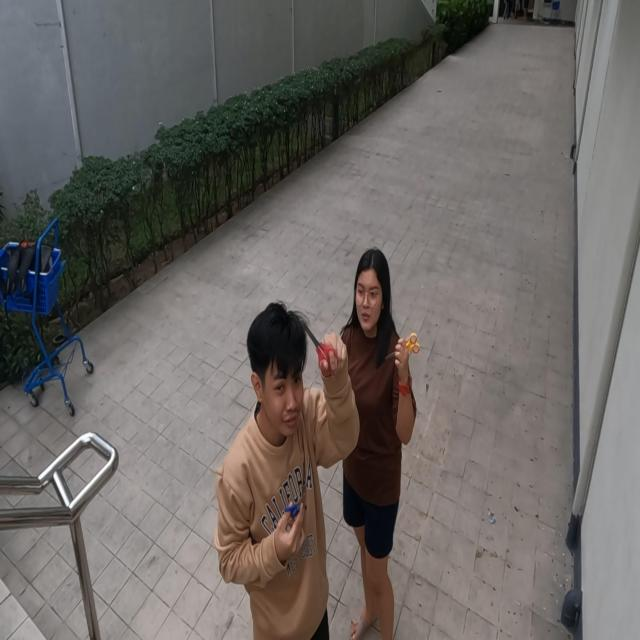scissor: (301, 319, 339, 376), (384, 332, 420, 360), (284, 493, 305, 525)
